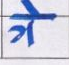e_matra: (19, 0, 40, 14)
